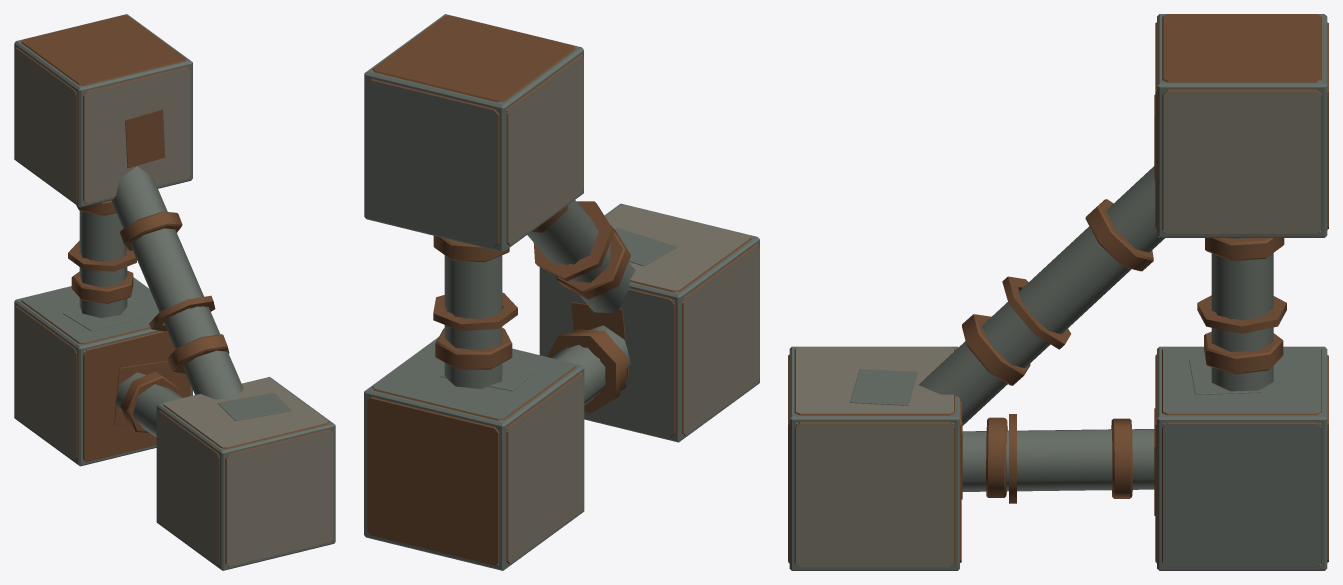
Rendered from R4C_STRUT_RAMP.fbx.
The picture shows the model from 3 angles, left to right: view 1: azimuth 30°, elevation 25°; view 2: azimuth 150°, elevation 25°; view 3: azimuth 270°, elevation 25°; orthographic projection. The views are drawn at different scales.
Visible parts, largest first — view 1: R4C_STRUT_RAMP; view 2: R4C_STRUT_RAMP; view 3: R4C_STRUT_RAMP.
Part boxes in pixels (x1,y1,x2,y2): R4C_STRUT_RAMP: (14, 14, 335, 570); R4C_STRUT_RAMP: (364, 14, 759, 570); R4C_STRUT_RAMP: (788, 14, 1328, 570).
Bounding box in the file's own units: 0.52 × 1.62 × 1.62.
